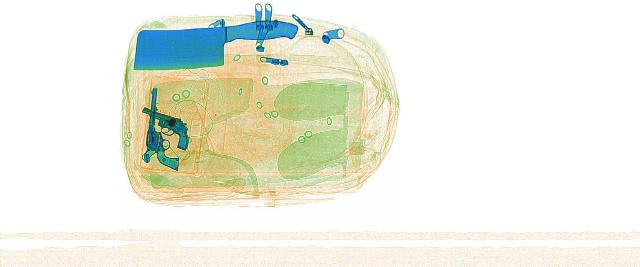Gun: (105, 107, 222, 148), (141, 87, 181, 170)
Knife: (126, 19, 302, 69)
